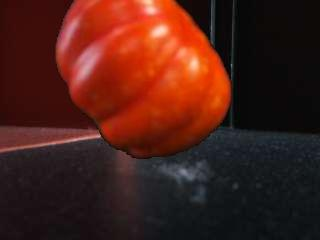Pumpkin: (56, 0, 232, 161)
